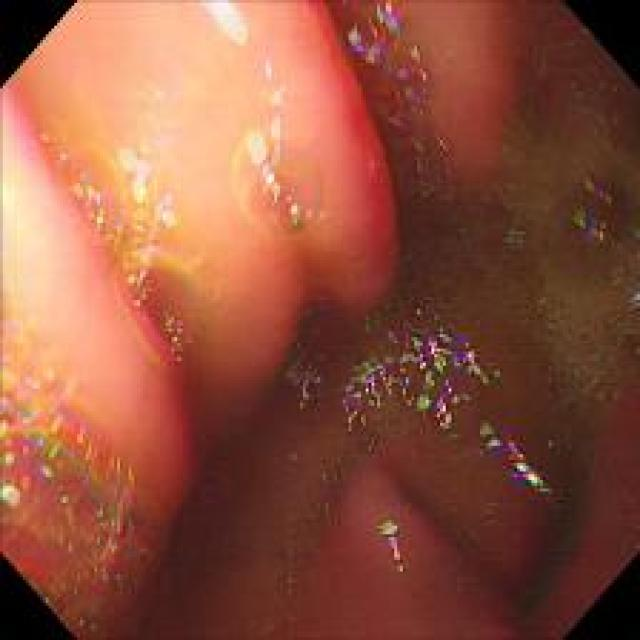bubbles: (4, 400, 139, 579), (529, 291, 636, 408), (116, 245, 208, 365), (55, 149, 130, 244), (229, 134, 299, 219), (359, 415, 406, 455), (324, 435, 354, 484), (612, 261, 635, 311)
color misalignment: (1, 341, 151, 622), (210, 10, 321, 240), (42, 134, 172, 295), (339, 5, 445, 200), (342, 318, 489, 428), (470, 420, 548, 489), (276, 319, 335, 401), (571, 181, 612, 248), (498, 214, 535, 264), (380, 502, 404, 570), (162, 310, 198, 350)
saturation: (5, 2, 381, 282), (2, 8, 131, 379)
specularity: (199, 0, 252, 46), (119, 146, 151, 201), (245, 131, 268, 164), (159, 208, 178, 230), (270, 88, 285, 106), (262, 60, 274, 79)
